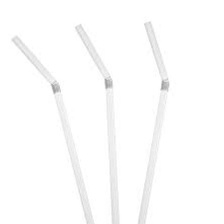drinking_straw: (7, 30, 103, 224), (71, 19, 124, 223), (131, 16, 175, 224)
